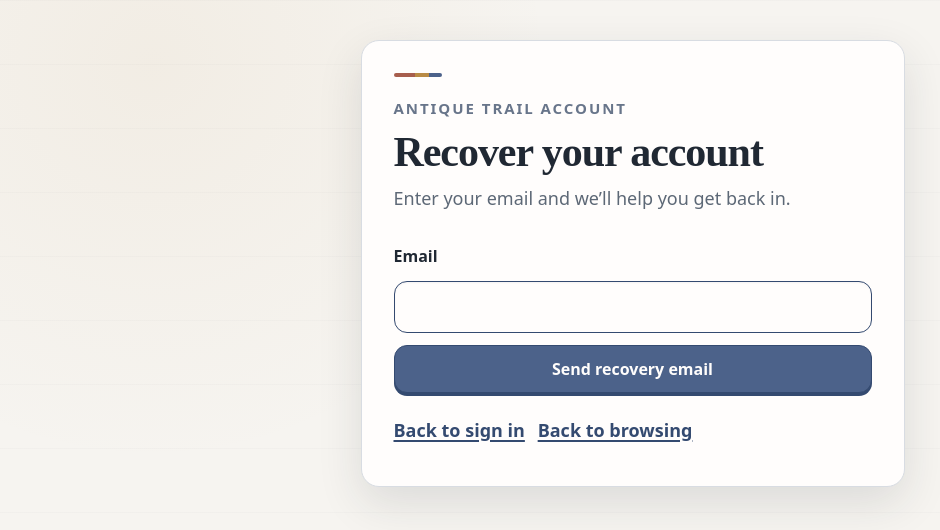
Test: auth states › uses generic recovery copy regardless of account existence
The width and height of the screenshot is (940, 530).
In the field labelled "Email": (632, 306) 394,280 -> 872,332, type "unknown@example.test"
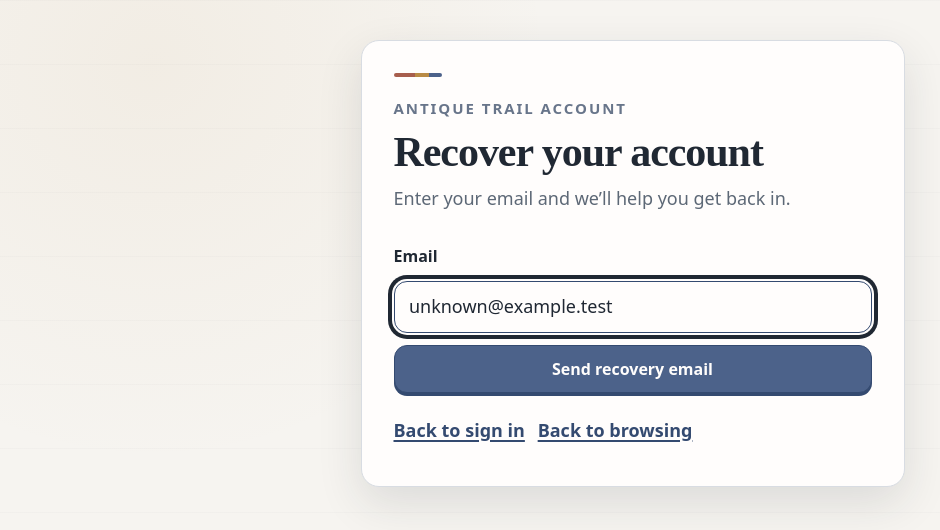
Click the button "Send recovery email": (632, 369) 394,345 -> 872,393
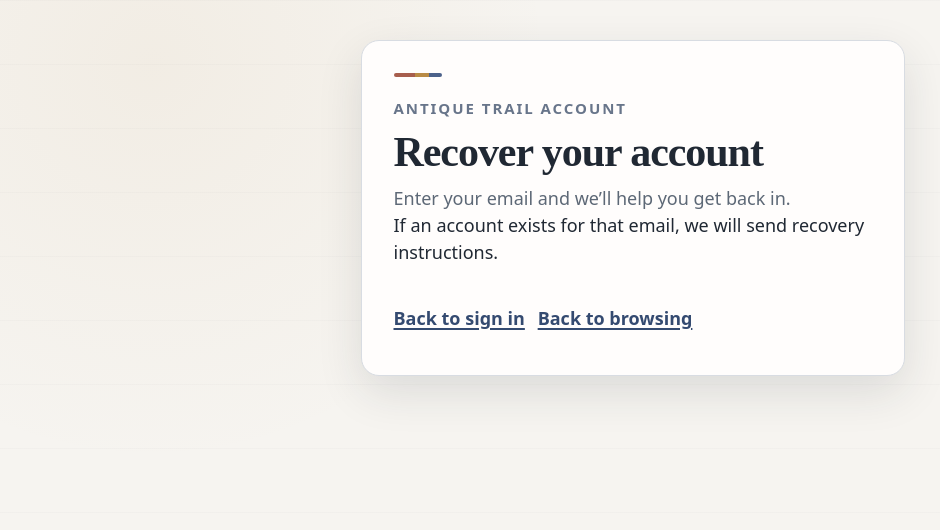
Expected: the message reads "If an account exists for that email, we will send recovery instructions.", 394,213 -> 864,264
